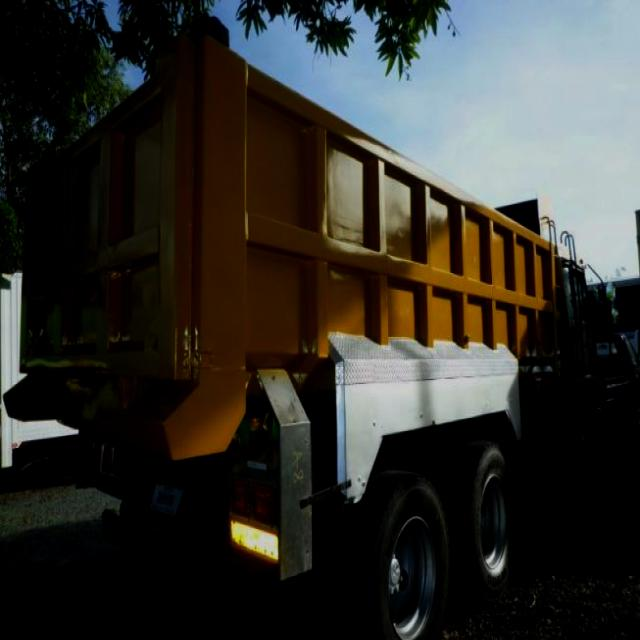truck: (6, 14, 588, 640)
